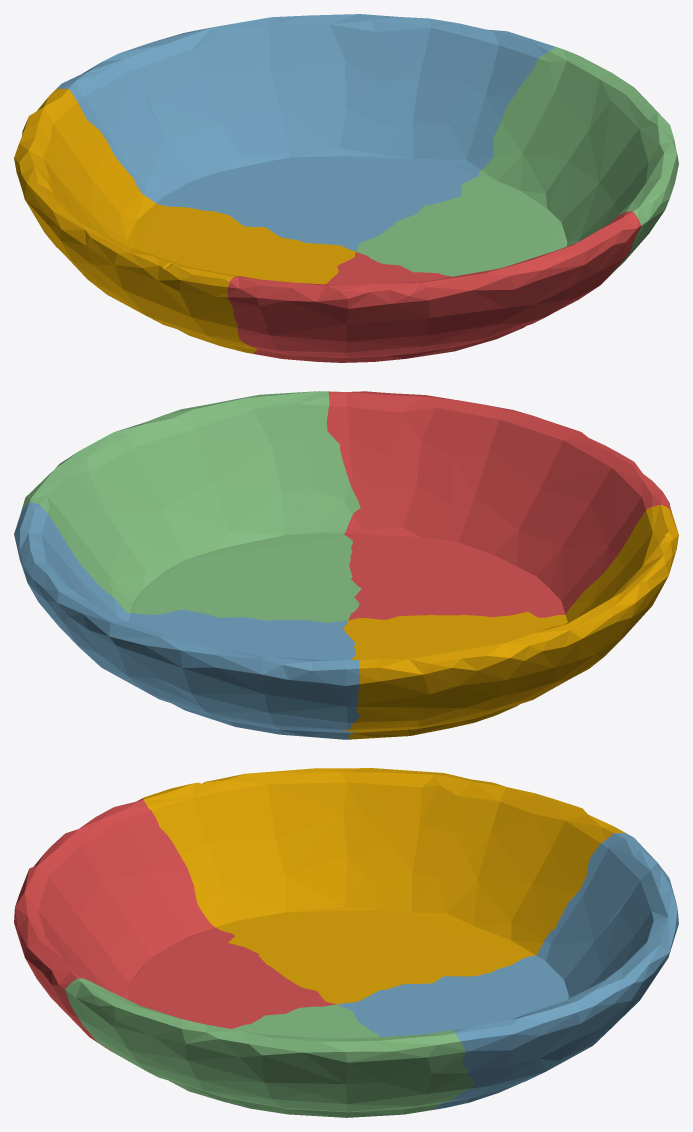
The model's file is fractured_41_4pcs.glb.
3 renders of one model, top to bottom at view 1: azimuth 30°, elevation 25°; view 2: azimuth 150°, elevation 25°; view 3: azimuth 270°, elevation 25°, orthographic.
Parts seen in each view (by area): view 1: piece_2.obj, piece_3.obj, piece_0.obj, piece_1.obj; view 2: piece_3.obj, piece_1.obj, piece_2.obj, piece_0.obj; view 3: piece_0.obj, piece_1.obj, piece_2.obj, piece_3.obj.
Boxes of the visible parts, left/top/right/bottom form: piece_2.obj: left=56, top=14, right=555, bottom=251; piece_3.obj: left=355, top=47, right=678, bottom=276; piece_0.obj: left=14, top=88, right=355, bottom=353; piece_1.obj: left=227, top=211, right=641, bottom=362; piece_3.obj: left=22, top=391, right=361, bottom=622; piece_1.obj: left=327, top=391, right=671, bottom=620; piece_2.obj: left=14, top=502, right=359, bottom=739; piece_0.obj: left=343, top=504, right=678, bottom=739; piece_0.obj: left=141, top=768, right=625, bottom=1004; piece_1.obj: left=14, top=798, right=336, bottom=1051; piece_2.obj: left=337, top=833, right=678, bottom=1110; piece_3.obj: left=65, top=978, right=474, bottom=1117.
Size of the model in its own units: 1 by 0.1956 by 0.9981.
